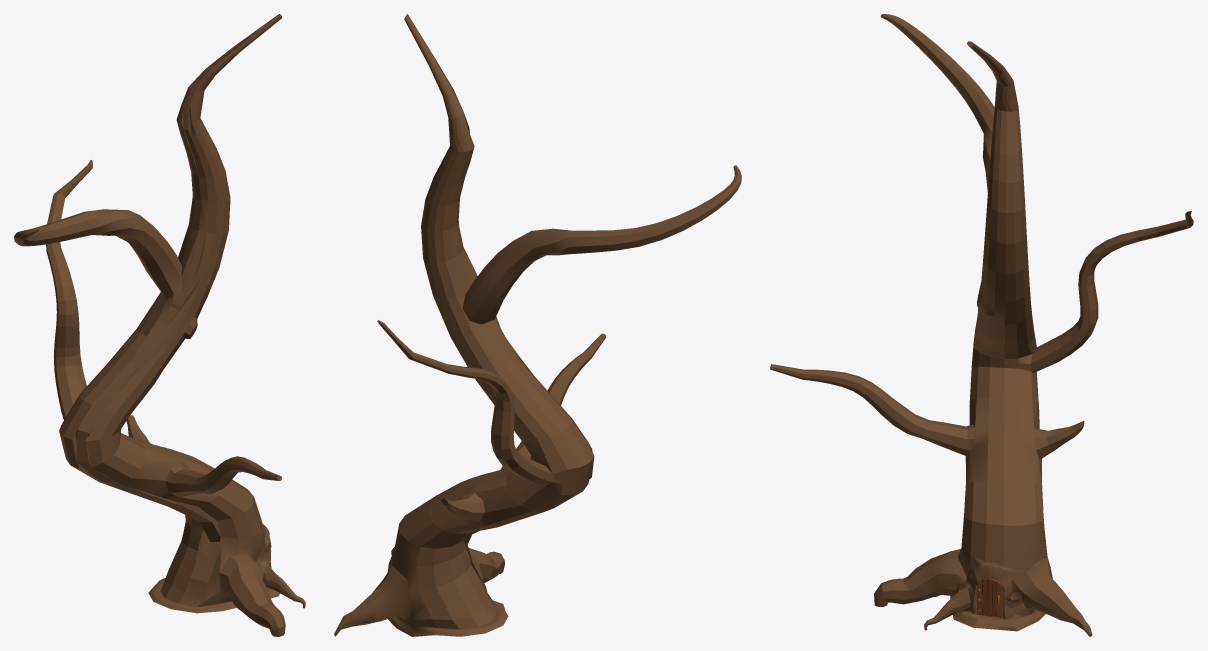
The model's file is Tree3.obj.
3 renders of one model, left to right at view 1: azimuth 30°, elevation 25°; view 2: azimuth 150°, elevation 25°; view 3: azimuth 270°, elevation 25°, orthographic.
Size of the model in its own units: 37.9 by 68.04 by 44.19.
